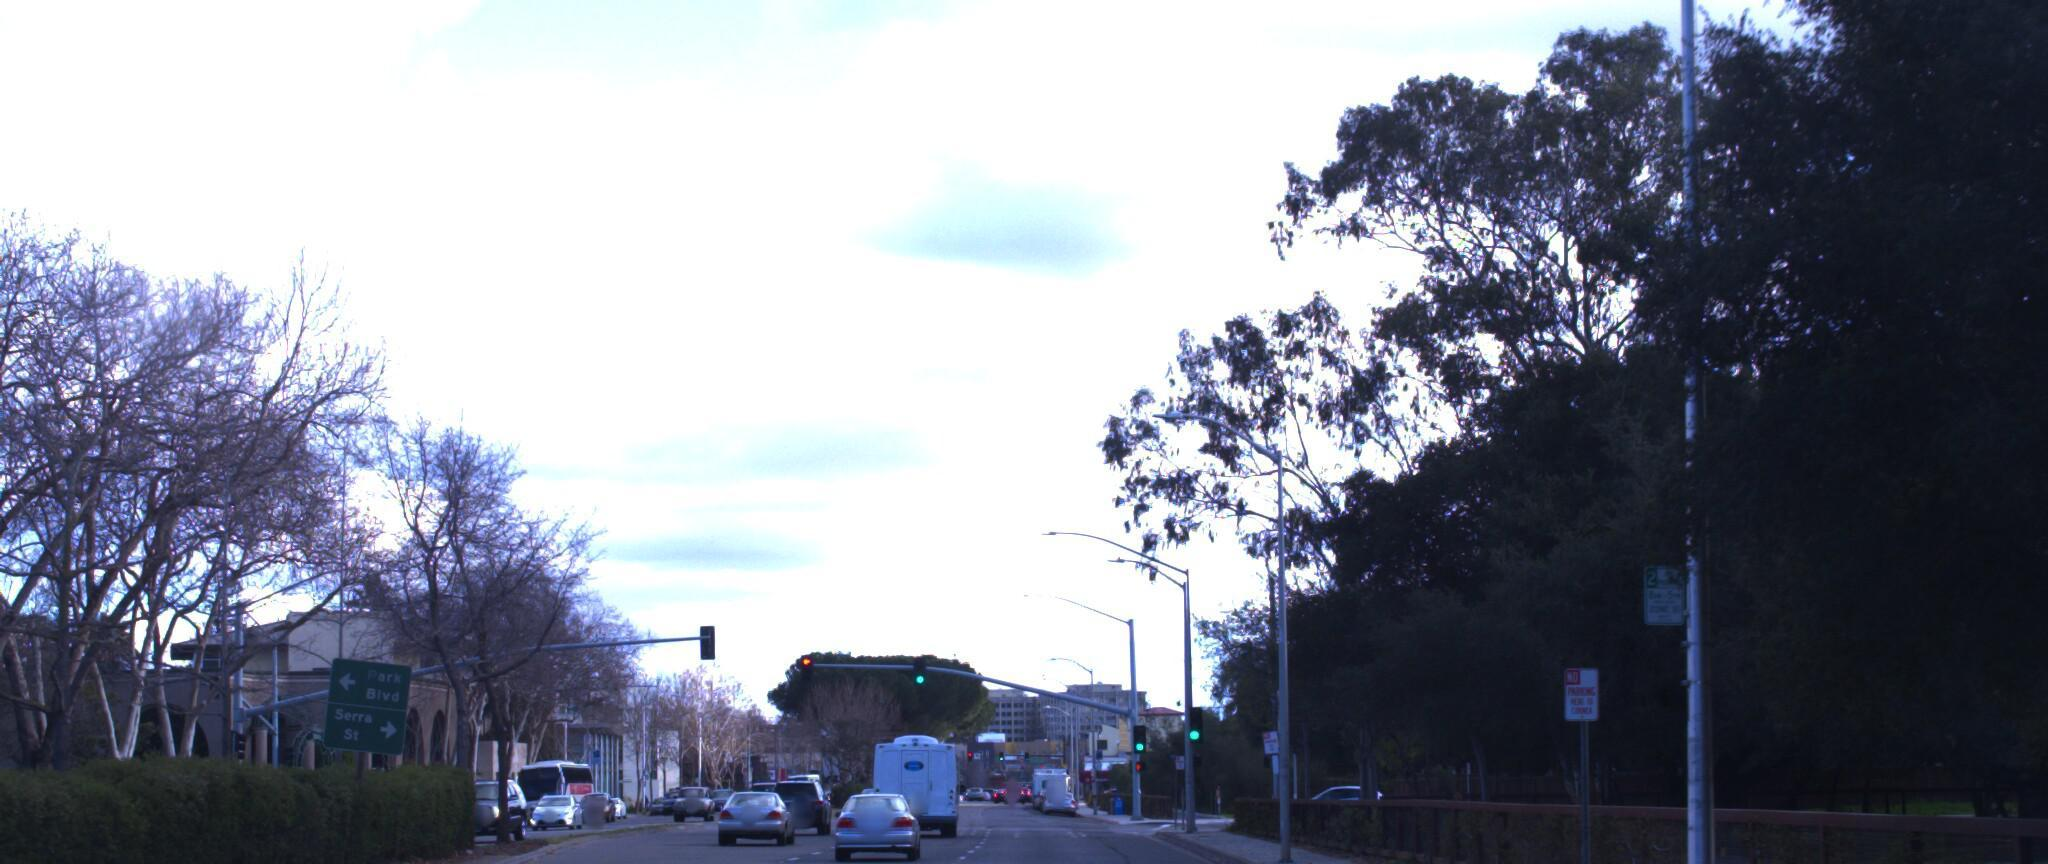car: (833, 766, 927, 846), (724, 764, 806, 822)
